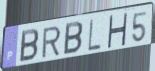5: (132, 9, 149, 43)
B: (18, 28, 40, 65), (62, 21, 84, 57)
H: (106, 12, 129, 49)
L: (87, 17, 102, 52)
R: (41, 25, 62, 60)
